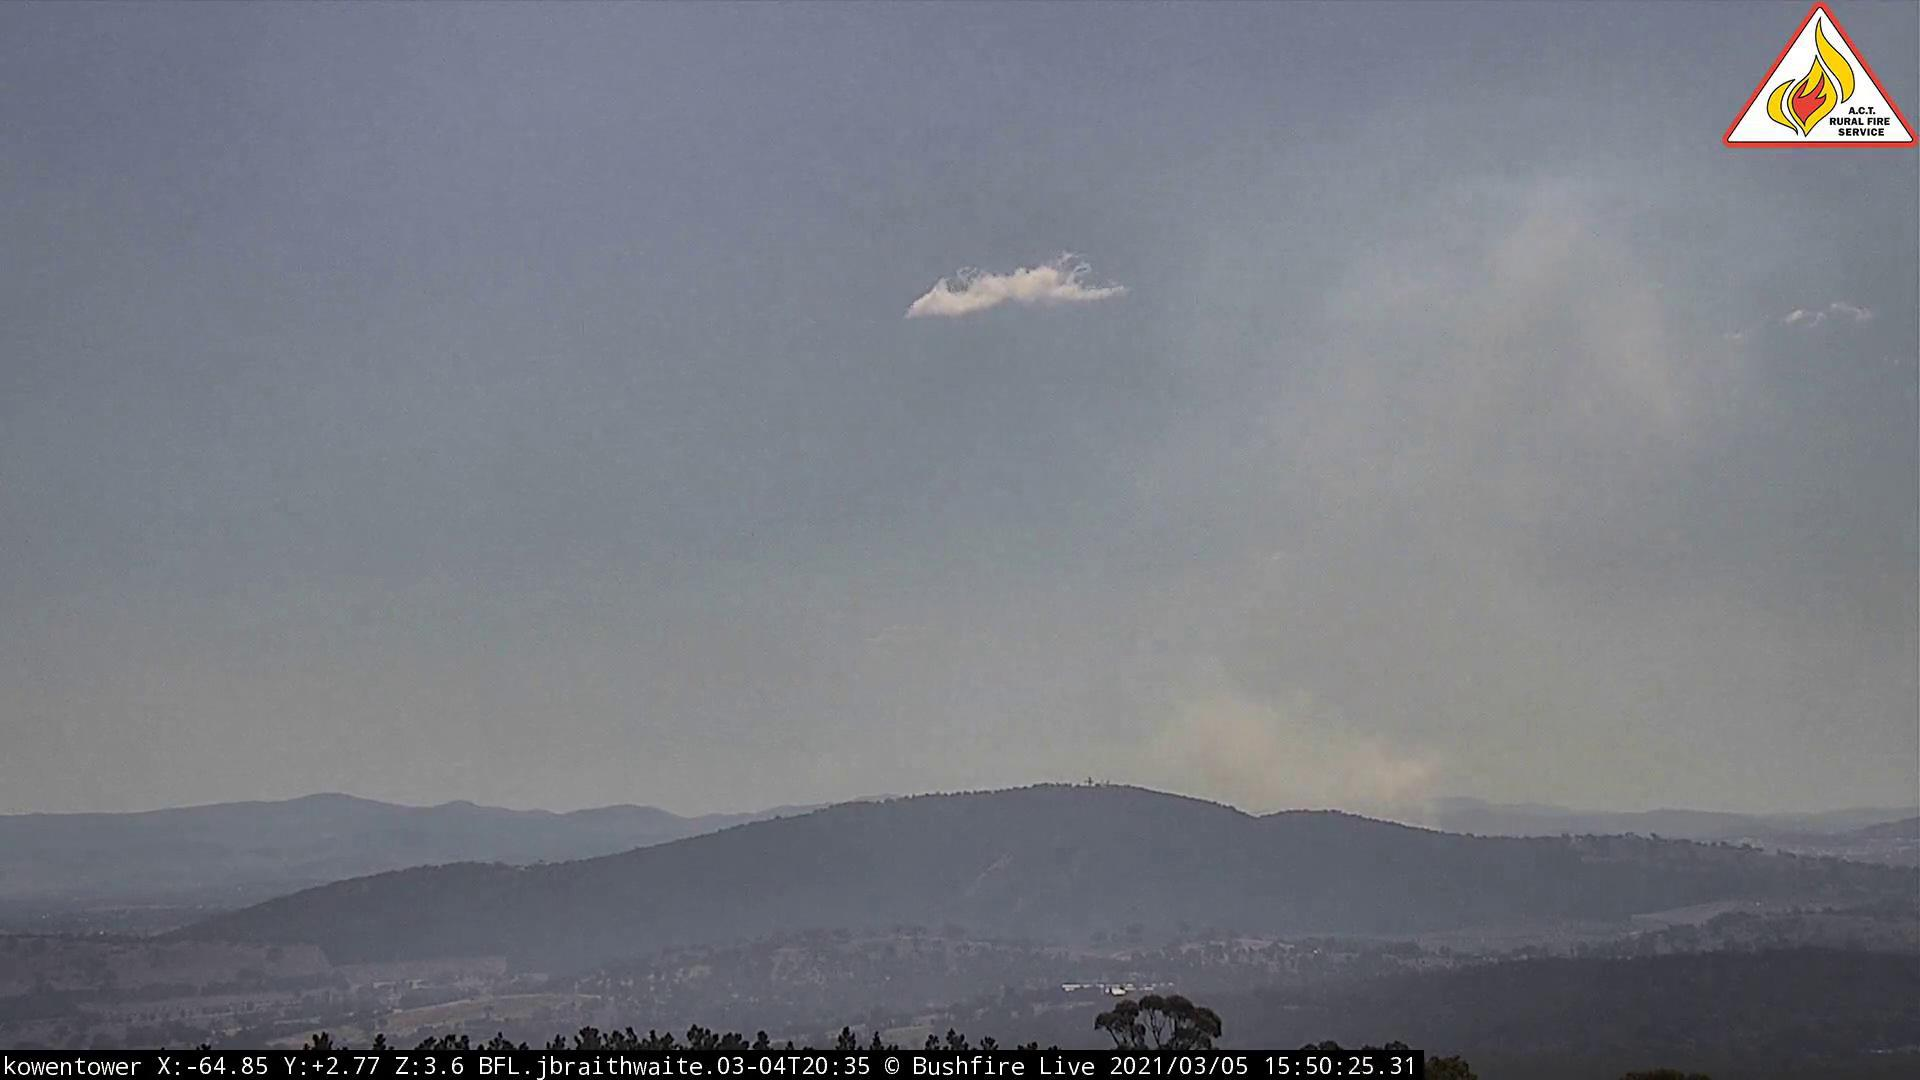instance_salient_object: (1059, 156, 1844, 839)
